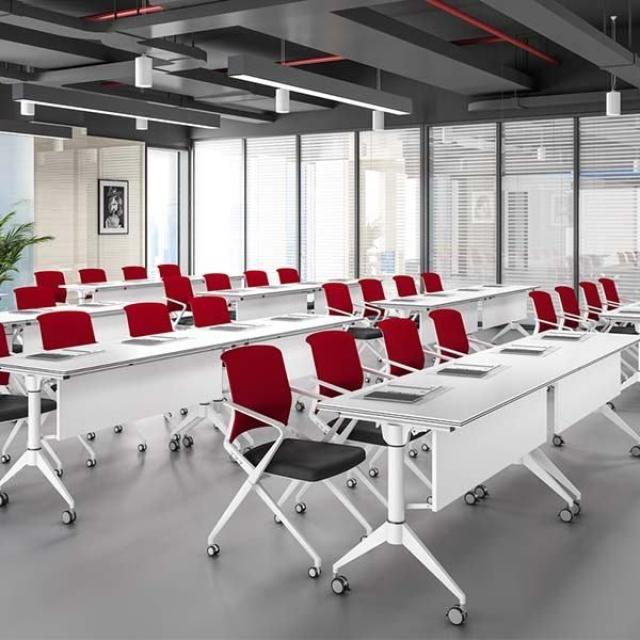obstacle: (314, 326, 639, 624), (0, 310, 369, 524), (214, 348, 359, 563), (305, 328, 451, 513)
